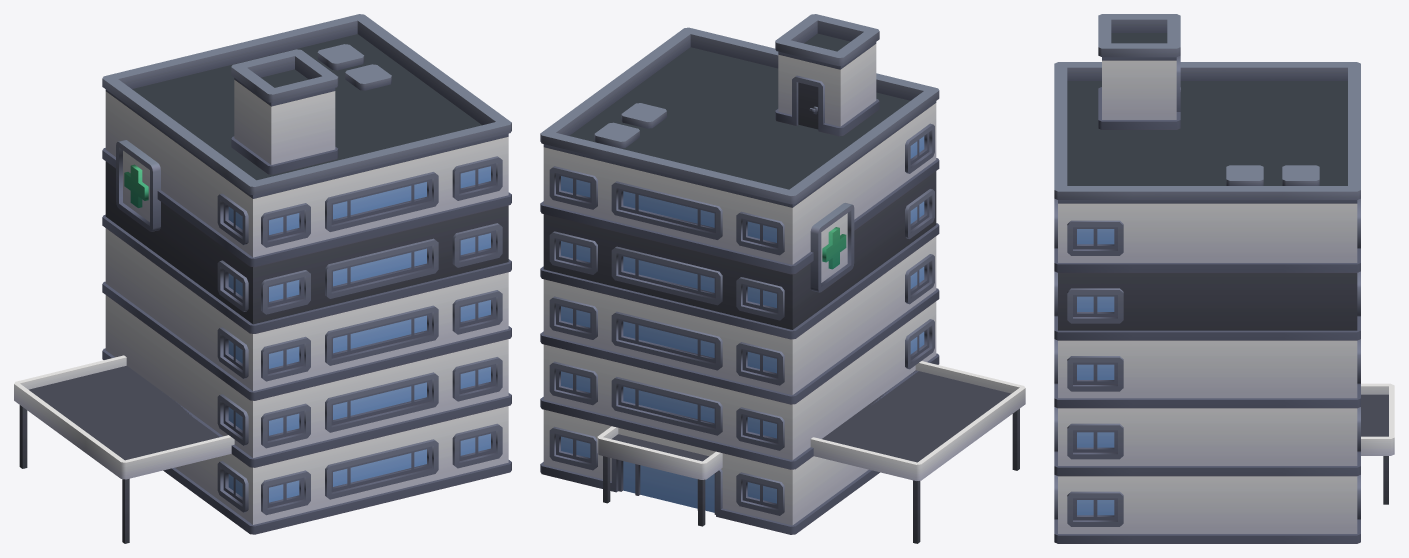
File: k-city-kit-commercial-building-n.glb
The picture shows the model from 3 angles, left to right: view 1: azimuth 30°, elevation 25°; view 2: azimuth 150°, elevation 25°; view 3: azimuth 270°, elevation 25°; orthographic projection. The views are drawn at different scales.
Parts seen in each view (by area): view 1: building-n; view 2: building-n; view 3: building-n.
Part boxes in pixels (left/top/right/bottom): building-n: left=14, top=14, right=511, bottom=543; building-n: left=540, top=14, right=1025, bottom=543; building-n: left=1054, top=14, right=1394, bottom=543.
Size of the model in its own units: 2.32 by 2.48 by 1.82.
Materials: 1 (1 with a texture image).
